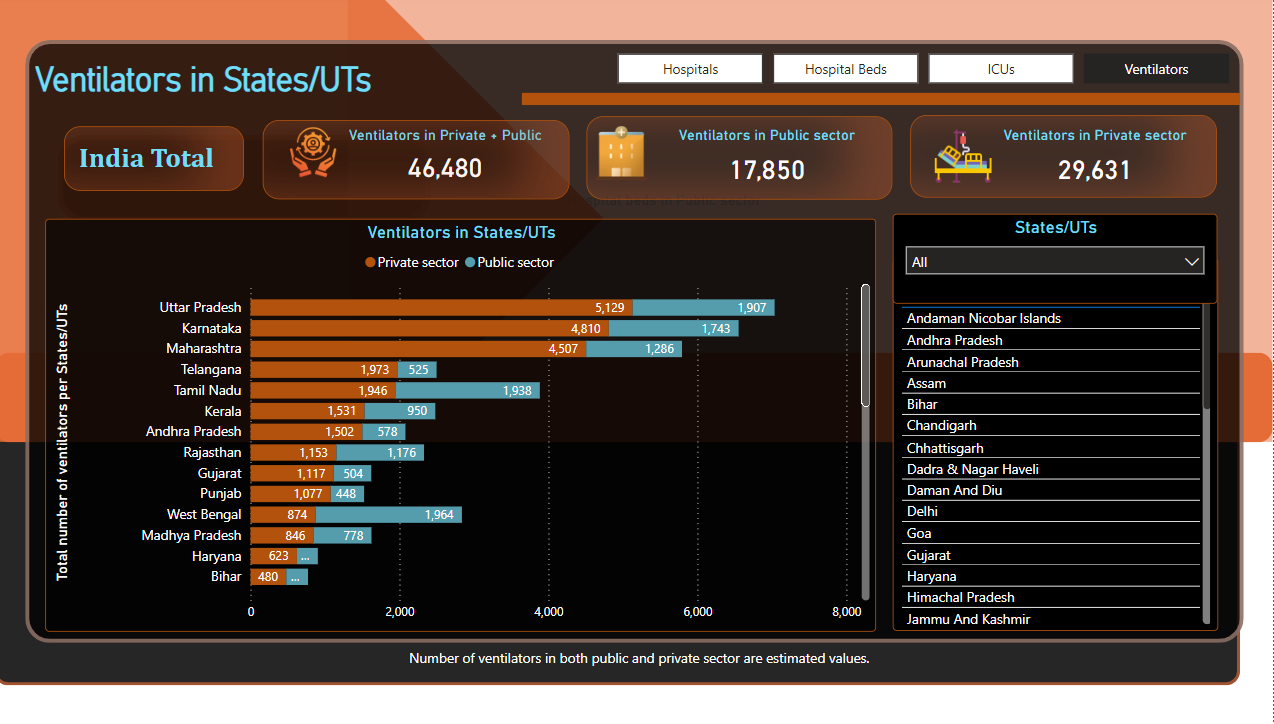

This screenshot's page, from the dashboard's own definition file:
{"tool":"powerbi","page":{"name":"Ventilators","canvas":[1280,720],"ordinal":3},"visuals":[{"type":"shape","box":[91.7,137.5,364.9,84.7],"z":0},{"type":"shape","box":[452.5,117.9,382,81.6],"z":1000},{"type":"shape","box":[29.9,43.7,1219,402.9],"z":2000},{"type":"shape","box":[29.9,406.3,1219,269.4],"z":3000},{"type":"card","title":"Hospital beds in Public sector","fields":{"Values":["Sum(hospital_beds.Hospital beds in public sector)"]},"box":[545.9,192.1,279.7,65.8],"z":4000},{"type":"shape","box":[375.3,0,904.7,437.2],"z":5000},{"type":"shape","box":[30.2,0,595.3,437.2],"z":6000},{"type":"shape","box":[30.2,349.2,1249.8,88],"z":7000},{"type":"shape","box":[59.7,43.9,1191.9,589.8],"z":8000},{"type":"barChart","title":"Ventilators in States/UTs","fields":{"Y":["Sum(Ventilators count in India - Statewise.Number of ventilators in private sector)","Sum(Ventilators count in India - Statewise.Number of ventilators in public sector)"],"Category":["Ventilators count in India - Statewise.States/UTs"]},"box":[79.5,218.7,812.7,403.9],"z":9000},{"type":"shape","box":[545.5,95.7,703.4,12.4],"z":10000},{"type":"image","box":[597.1,123.4,92.9,62.3],"z":11000},{"type":"image","box":[297.4,122.2,88.2,63.5],"z":12000},{"type":"tableEx","fields":{"Values":["Ventilators count in India - Statewise.States/UTs"]},"box":[908.4,258.5,318.1,364.1],"z":13000},{"type":"slicer","title":"States/UTs","fields":{"Values":["Ventilators count in India - Statewise.States/UTs"]},"box":[908.6,214,317.9,88],"z":14000},{"type":"textbox","box":[429.9,634.2,496.1,32.6],"z":15000},{"type":"shape","box":[926.2,117.5,299.7,81.1],"z":16000},{"type":"card","title":"Ventilators in Private sector","fields":{"Values":["Sum(Ventilators count in India - Statewise.Number of ventilators in private sector)"]},"box":[999,128.2,214.8,66.2],"z":17000},{"type":"image","box":[934.4,122.2,87,69.3],"z":18000},{"type":"shape","box":[609,118.6,299.2,81.2],"z":19000},{"type":"shape","box":[97.4,128.3,176.2,63.4],"z":20000},{"type":"card","title":"Ventilators in Private + Public","fields":{"Values":["Sum(Ventilators count in India - Statewise.Total number of ventilators (public + private))"]},"box":[355,128.6,232.2,63.3],"z":21000},{"type":"card","title":"Ventilators in Public sector","fields":{"Values":["Sum(Ventilators count in India - Statewise.Number of ventilators in public sector)"]},"box":[678.5,128.2,213.7,67.3],"z":22000},{"type":"textbox","box":[64.6,57.2,392.7,51],"z":23000},{"type":"pageNavigator","box":[640,57.2,600.2,29.8],"z":24000},{"type":"textbox","box":[107.5,138.7,166.5,43.4],"z":25000},{"type":"shape","box":[292.2,122.1,299.9,77.3],"z":26000}]}

Visuals, with their boxes in screenshot pixels (x1, y1, x2, y2), scaled from the page's 1280x720 canvas onto the 1274x724 screenshot:
shape: select_region(91, 138, 454, 223)
shape: select_region(450, 119, 831, 201)
shape: select_region(30, 44, 1243, 449)
shape: select_region(30, 409, 1243, 679)
"Hospital beds in Public sector" card: select_region(543, 193, 822, 259)
shape: select_region(374, 0, 1273, 440)
shape: select_region(30, 0, 623, 440)
shape: select_region(30, 351, 1273, 440)
shape: select_region(59, 44, 1246, 637)
"Ventilators in States/UTs" barChart: select_region(79, 220, 888, 626)
shape: select_region(543, 96, 1243, 109)
image: select_region(594, 124, 687, 187)
image: select_region(296, 123, 384, 187)
tableEx - Ventilators count in India - Statewise.States/UTs: select_region(904, 260, 1221, 626)
"States/UTs" slicer: select_region(904, 215, 1221, 304)
textbox: select_region(428, 638, 922, 671)
shape: select_region(922, 118, 1220, 200)
"Ventilators in Private sector" card: select_region(994, 129, 1208, 195)
image: select_region(930, 123, 1017, 193)
shape: select_region(606, 119, 904, 201)
shape: select_region(97, 129, 272, 193)
"Ventilators in Private + Public" card: select_region(353, 129, 584, 193)
"Ventilators in Public sector" card: select_region(675, 129, 888, 197)
textbox: select_region(64, 58, 455, 109)
pageNavigator: select_region(637, 58, 1234, 87)
textbox: select_region(107, 139, 273, 183)
shape: select_region(291, 123, 589, 201)
